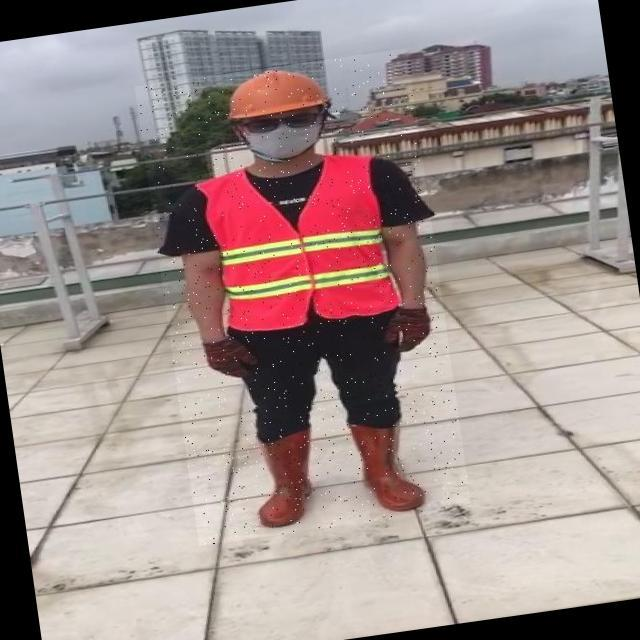Gloves: (201, 333, 262, 384), (374, 306, 436, 356)
Helmet: (216, 59, 332, 124)
Human: (135, 48, 472, 546)
Safety Boot: (346, 416, 424, 518), (250, 429, 324, 529)
Safety Vest: (199, 148, 406, 335)
